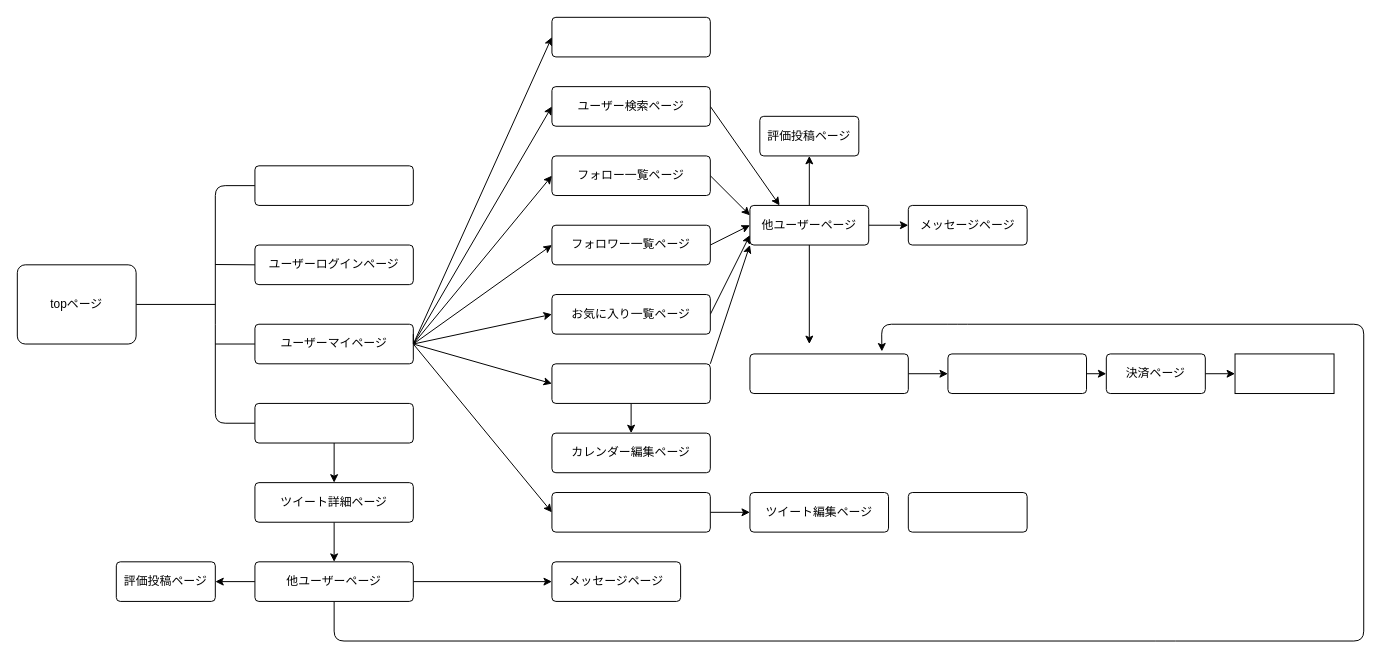
This 1389x666 diagram has some shape labels left out. Here are the shapes that lost their labels. From the top down, the box of each, then its label:
(551, 16, 710, 57): 評価一覧ページ
(254, 165, 413, 205): ユーザー新規登録ページ
(551, 363, 710, 403): 自身のカレンダーページ
(749, 353, 908, 394): カレンダーページ
(947, 353, 1087, 394): 時間帯選択ページ
(1234, 353, 1334, 394): 決済完了ページ
(254, 402, 413, 443): ツイート投稿一覧ページ
(551, 492, 710, 532): 自身のツイート一覧ページ
(907, 492, 1027, 532): ツイート削除ページ
